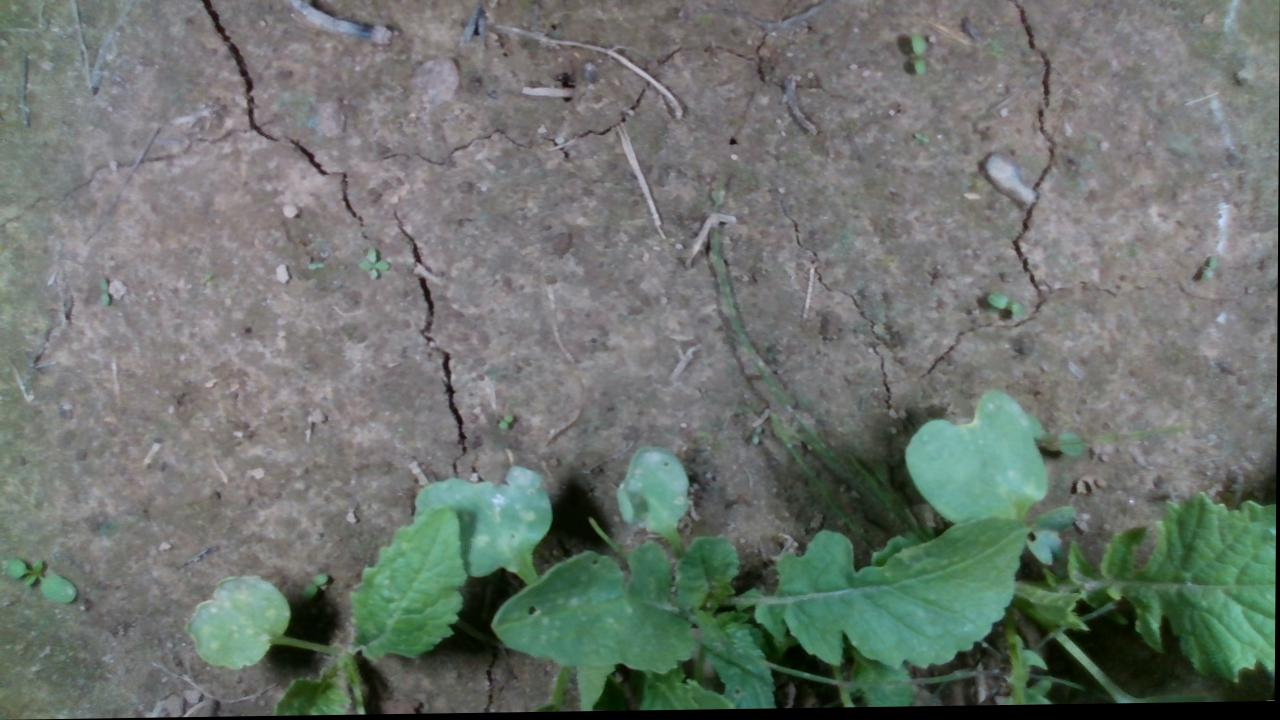weed: (1, 556, 77, 605), (355, 243, 390, 282), (985, 293, 1025, 319), (910, 34, 931, 78), (303, 571, 330, 598), (1198, 258, 1216, 285), (496, 411, 515, 432)
